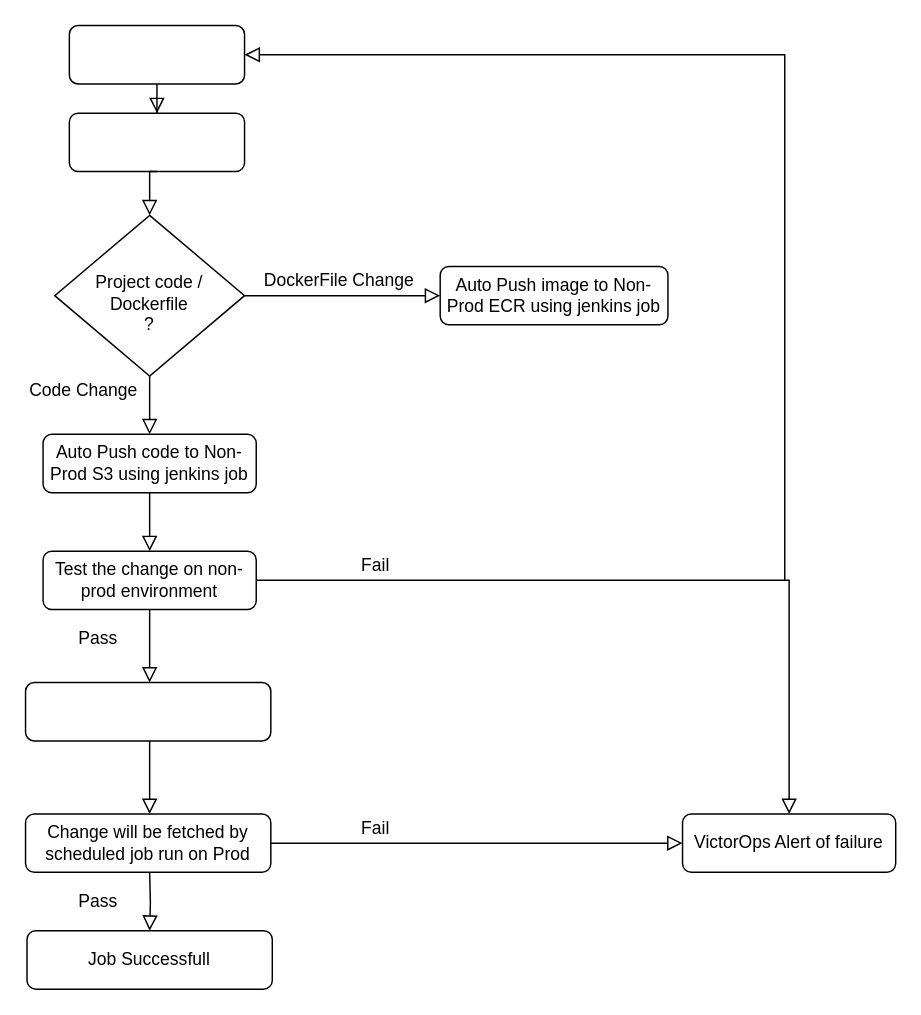
The diagram is 921 pixels wide and 1015 high, and some of its shapes have lost their labels. The box of each missing label's shape, as (x1, y1, x2, y2) in pixels:
Click & Push Image and code to Prod Env using Jenkins job: (24, 681, 271, 741)
Get the Git Repository on local: (68, 24, 245, 84)
Update and push to the remote repository: (68, 112, 245, 172)
